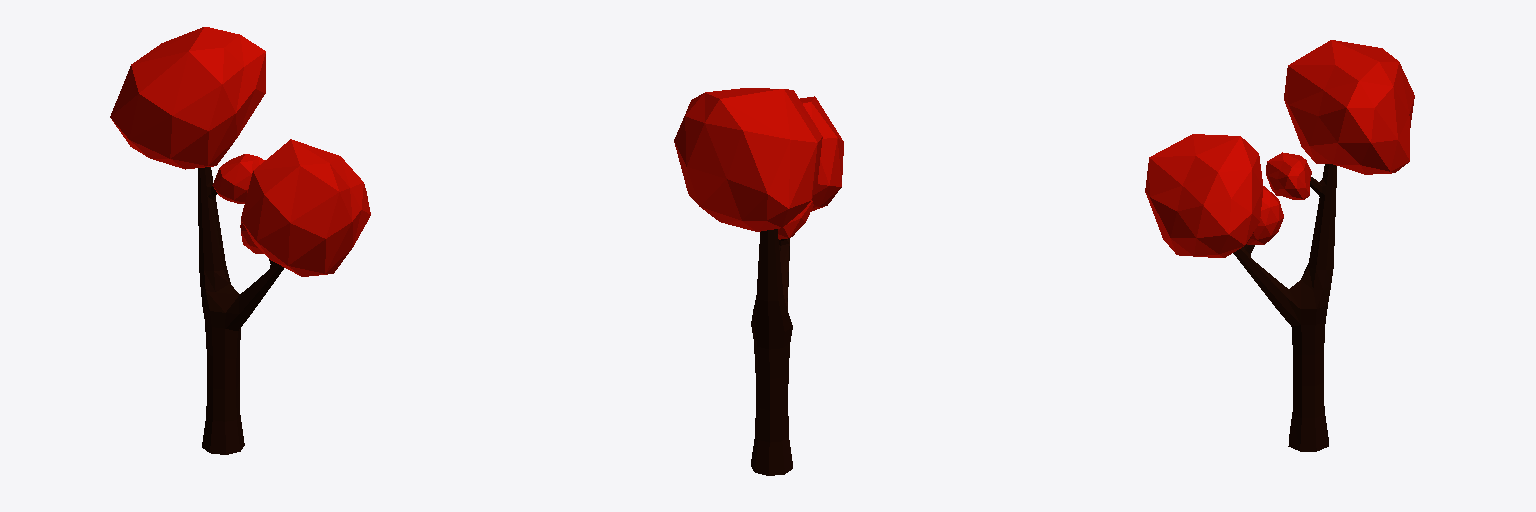
File: slim_tree_red.obj
The picture shows the model from 3 angles: view 1: azimuth 30°, elevation 25°; view 2: azimuth 150°, elevation 25°; view 3: azimuth 270°, elevation 25°; orthographic projection.
Parts seen in each view (by area): view 1: t7-orange_Cylinder.018; view 2: t7-orange_Cylinder.018; view 3: t7-orange_Cylinder.018.
Part boxes in pixels (bbox=[...]): t7-orange_Cylinder.018: bbox=[110, 27, 370, 454]; t7-orange_Cylinder.018: bbox=[674, 88, 843, 475]; t7-orange_Cylinder.018: bbox=[1145, 40, 1414, 451].
Size of the model in its own units: 4.54 by 10.02 by 6.25.